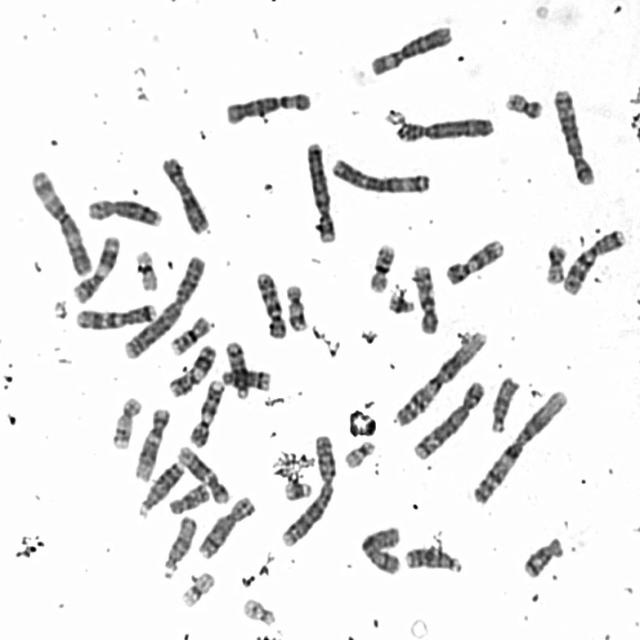A1: (468, 385, 570, 507), (390, 325, 490, 428)
A2: (119, 250, 208, 361), (278, 429, 339, 549)
A3: (26, 164, 93, 277), (328, 152, 432, 195)
B4: (302, 138, 338, 245), (393, 112, 497, 144)
B5: (410, 375, 487, 462), (550, 83, 598, 187)
C10: (252, 267, 288, 340), (409, 260, 442, 336)
C11: (69, 230, 122, 305), (165, 339, 218, 400)
C12: (174, 442, 232, 506), (131, 402, 172, 482)
C6: (366, 20, 455, 77), (222, 86, 314, 127)
C7: (559, 224, 628, 296), (72, 298, 159, 331)
C8: (196, 491, 258, 561), (84, 193, 164, 229)
C9: (442, 234, 506, 286), (186, 375, 227, 448)
D13: (135, 456, 186, 520), (402, 542, 464, 575)
D14: (222, 337, 251, 400), (218, 363, 273, 392)
D15: (158, 512, 198, 580), (487, 372, 521, 434)
E16: (167, 310, 213, 356), (366, 238, 398, 294)
E17: (108, 392, 144, 451), (284, 281, 310, 333)
E18: (519, 532, 566, 580), (166, 479, 212, 516)
F19: (176, 567, 218, 609), (131, 244, 160, 294)
F20: (501, 86, 545, 121), (541, 238, 569, 286)
G21: (385, 288, 416, 315), (281, 478, 314, 502)
G22: (340, 436, 377, 470), (241, 597, 276, 624)
X: (158, 152, 212, 236), (356, 521, 404, 577)
